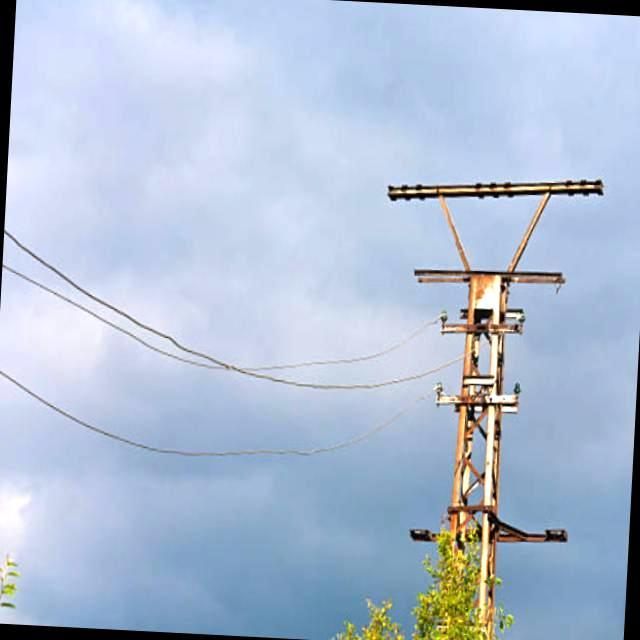light_pole: (421, 291, 514, 640), (426, 448, 506, 640)
